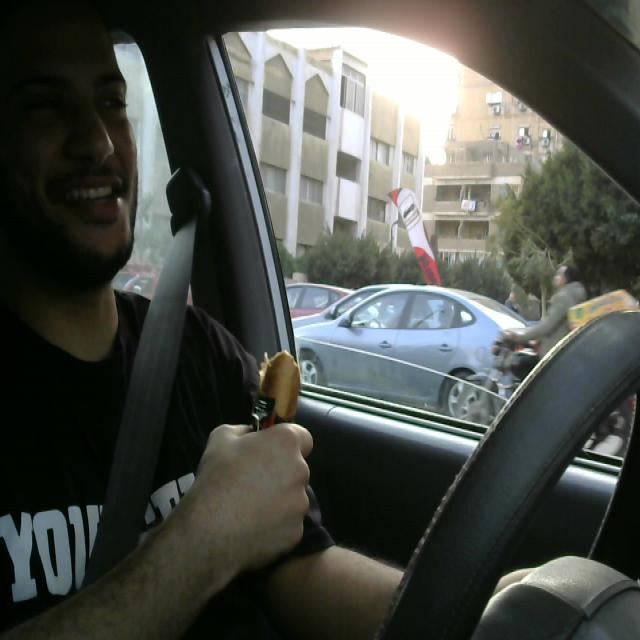eating: (245, 335, 305, 520)
